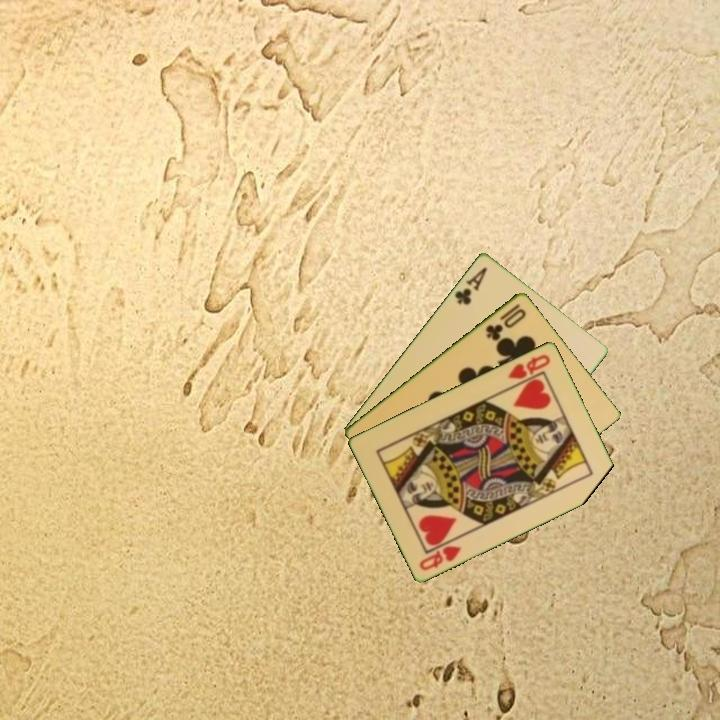10c: (482, 300, 529, 343)
Ac: (451, 263, 490, 308)
Qh: (504, 350, 553, 382), (416, 542, 464, 573)
